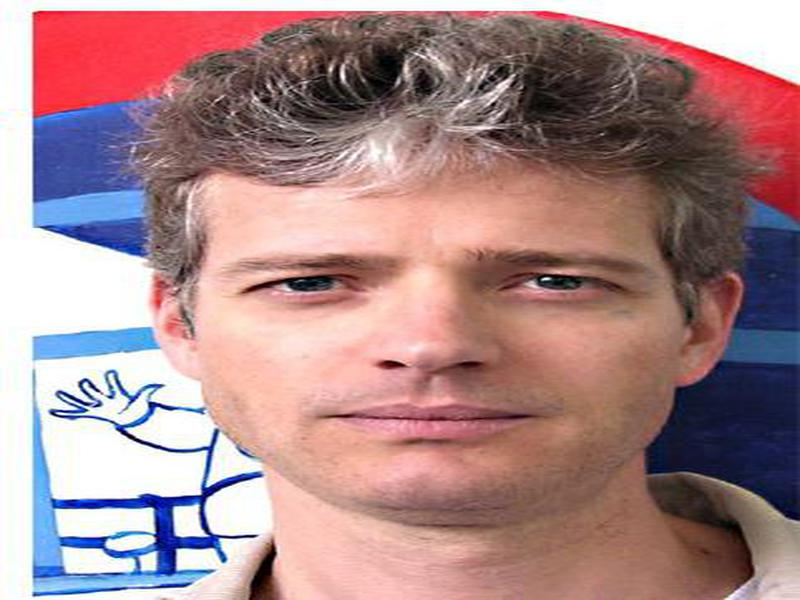without_mask: (183, 151, 683, 527)
